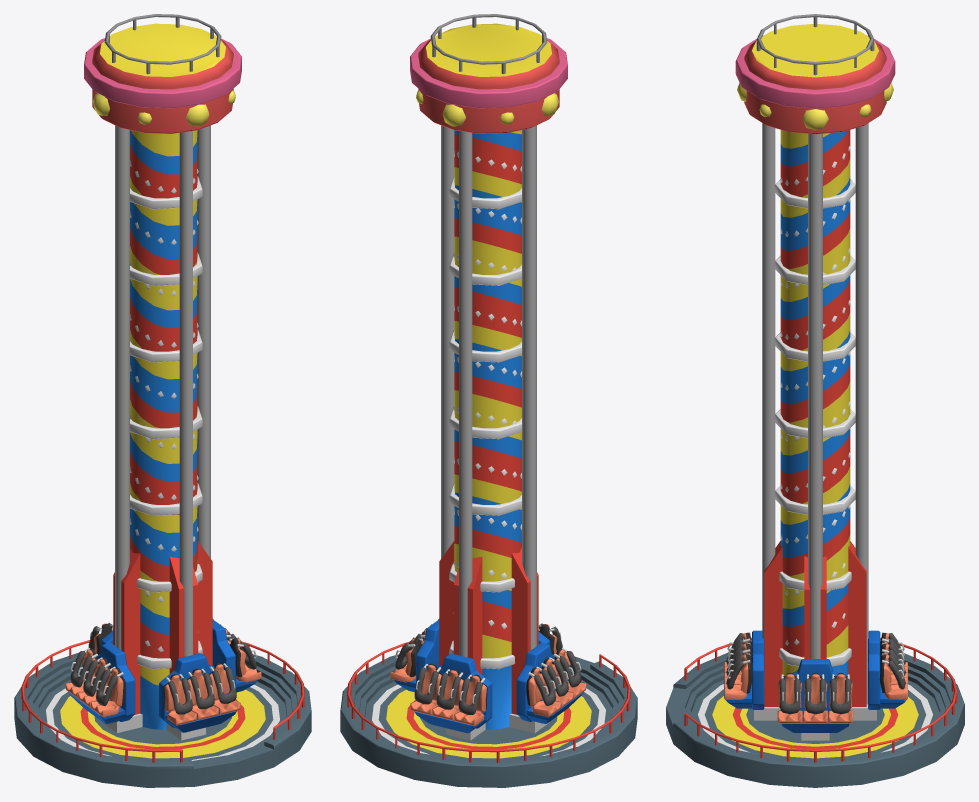
Rendered from attraction_11_001.gltf.
The picture shows the model from 3 angles, left to right: view 1: azimuth 30°, elevation 25°; view 2: azimuth 150°, elevation 25°; view 3: azimuth 270°, elevation 25°; orthographic projection.
Visible parts, largest first — view 1: attraction_11_001, attraction_11_002, attraction_11_003, attraction_11_004, attraction_11_005; view 2: attraction_11_001, attraction_11_005, attraction_11_003, attraction_11_004; view 3: attraction_11_001, attraction_11_004, attraction_11_002, attraction_11_005.
Boxes of the visible parts, x1,y1,x2,y2 form: attraction_11_001: (14, 14, 311, 787); attraction_11_002: (159, 653, 240, 732); attraction_11_003: (65, 643, 135, 723); attraction_11_004: (212, 619, 261, 692); attraction_11_005: (85, 623, 113, 655); attraction_11_001: (340, 14, 637, 787); attraction_11_005: (410, 653, 492, 733); attraction_11_003: (516, 643, 586, 723); attraction_11_004: (390, 619, 439, 692); attraction_11_001: (666, 14, 964, 787); attraction_11_004: (777, 659, 853, 732); attraction_11_002: (724, 630, 764, 709); attraction_11_005: (868, 630, 907, 709).
Bounding box in the file's own units: 12.49 × 31.68 × 12.49.
2 materials, 1 textured.
